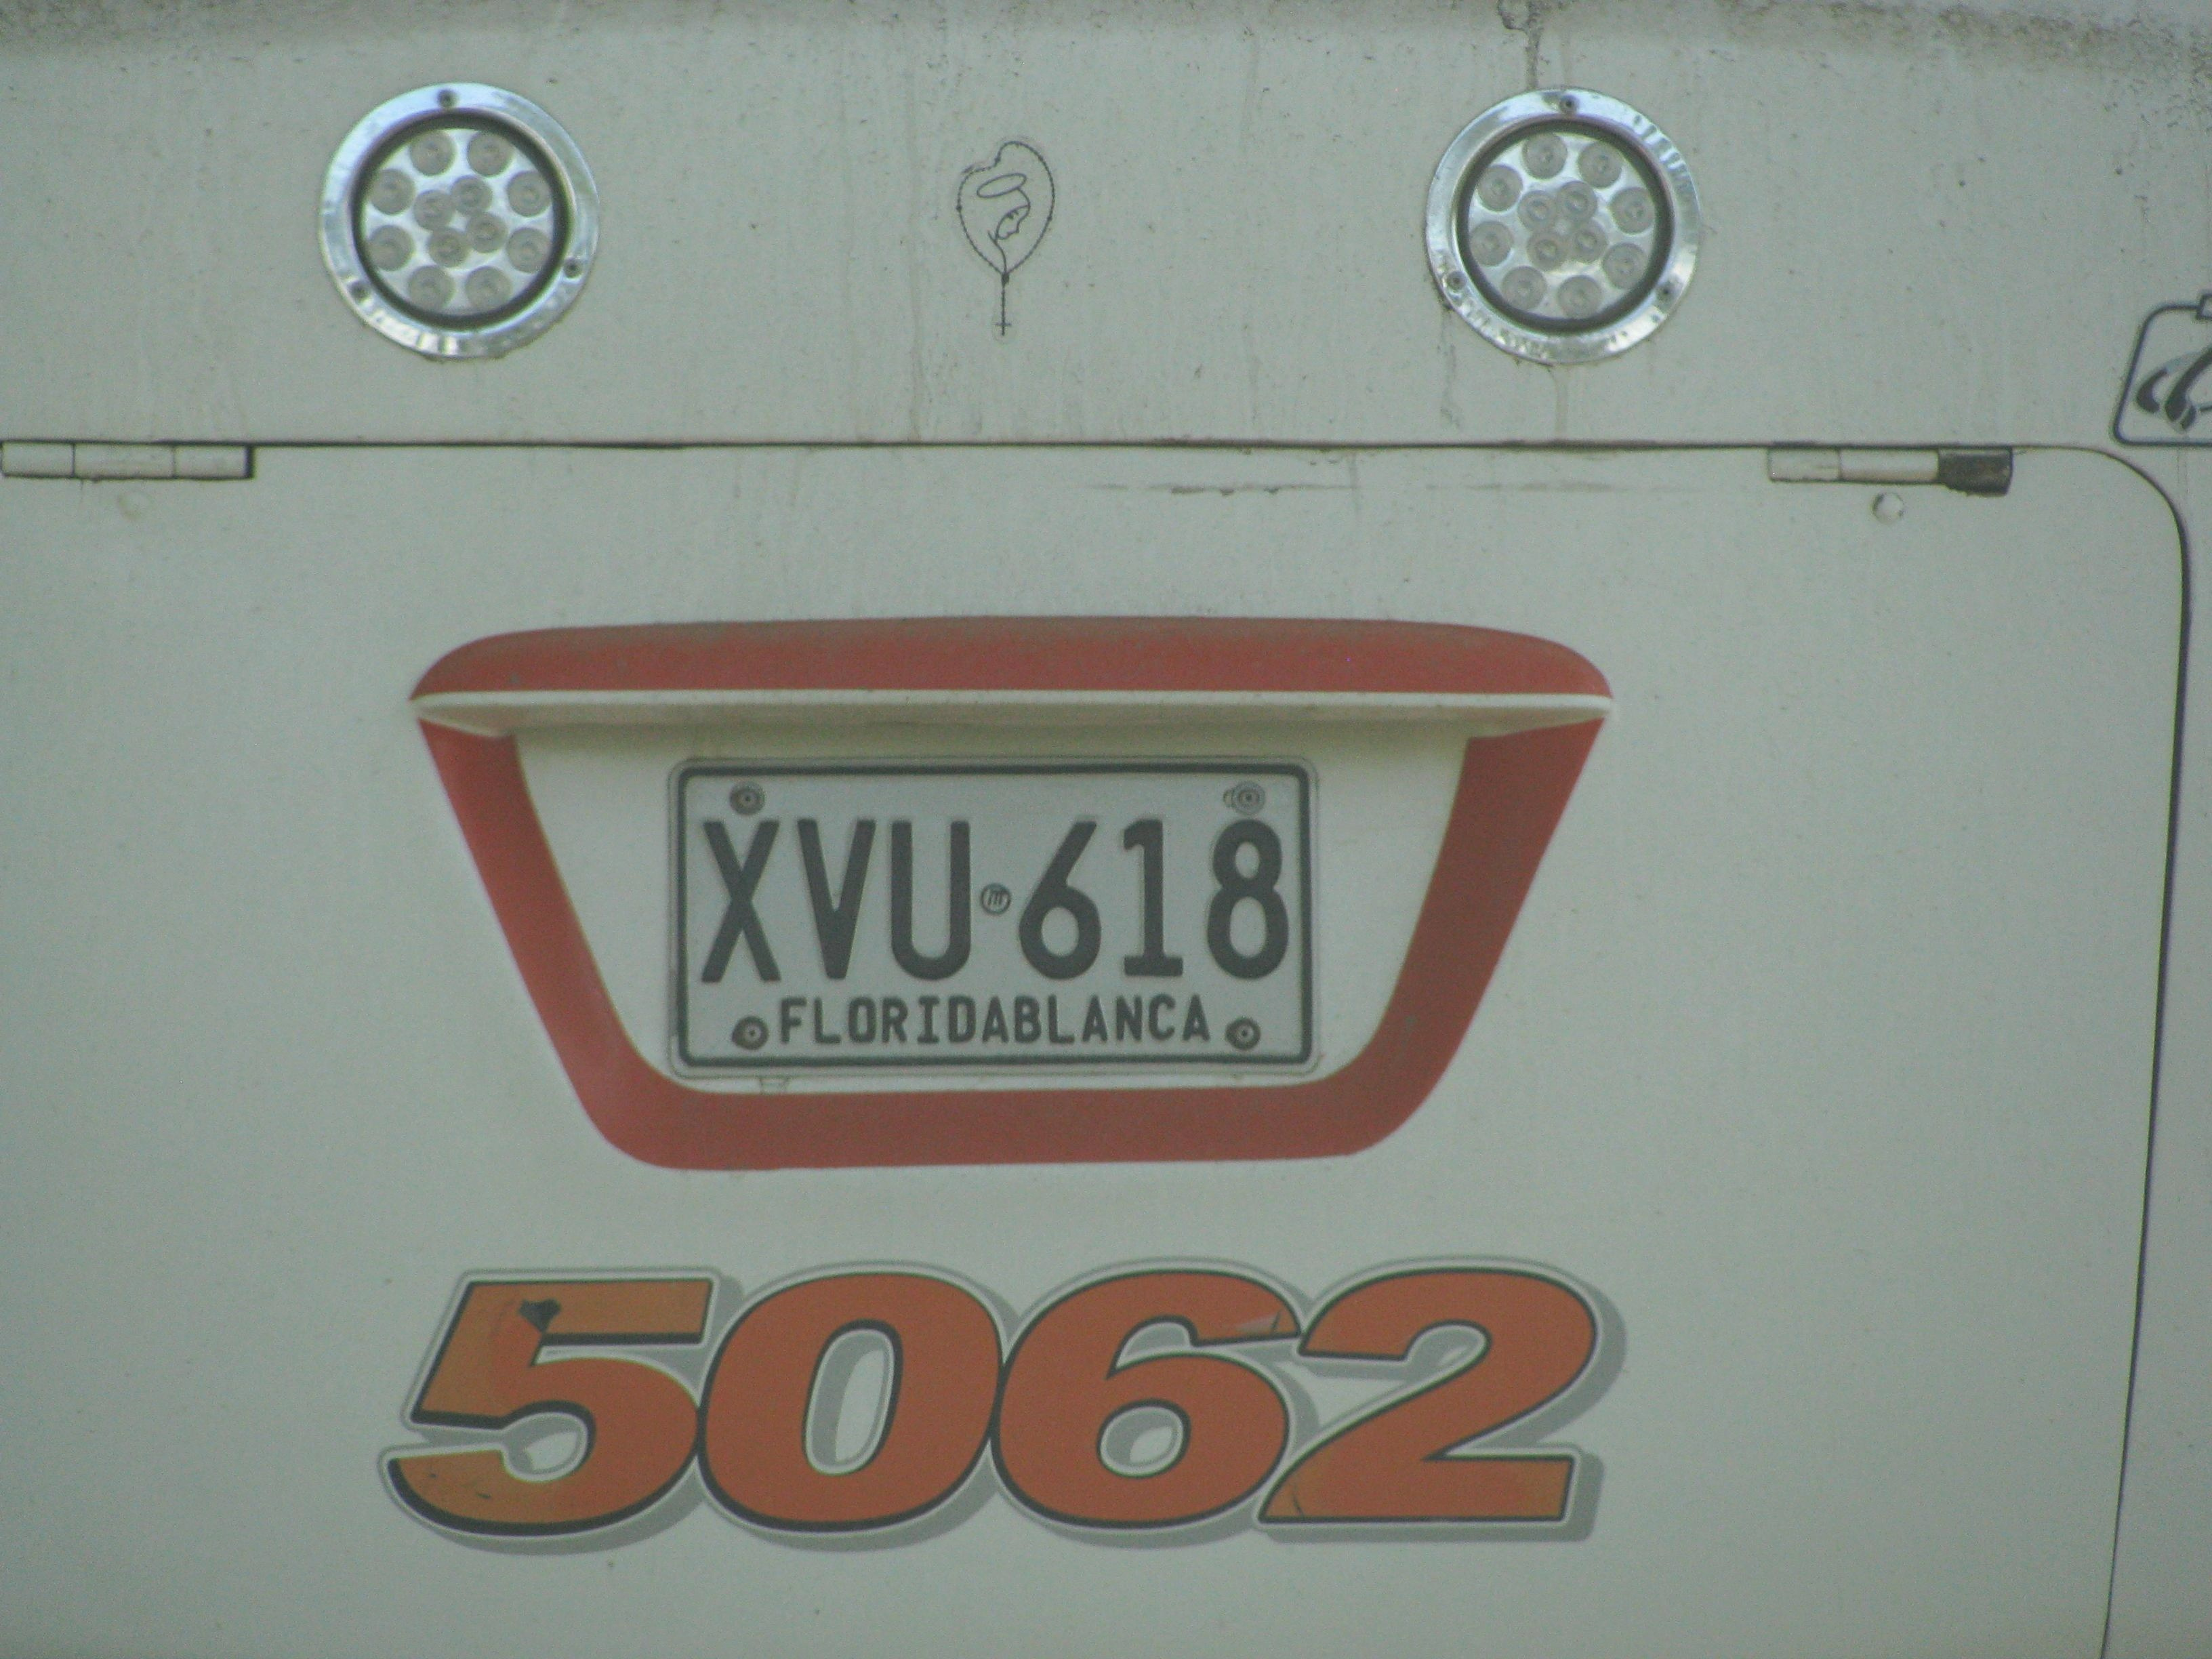placas: (655, 736, 1334, 1095)
